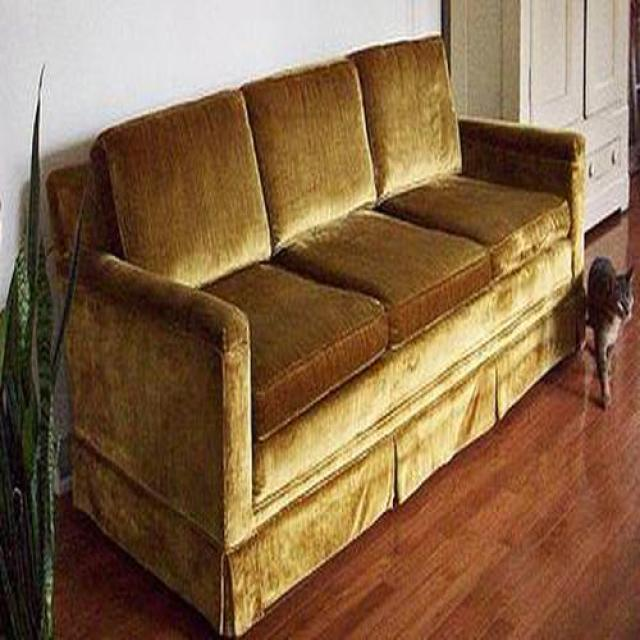sofa: (44, 37, 586, 640)
